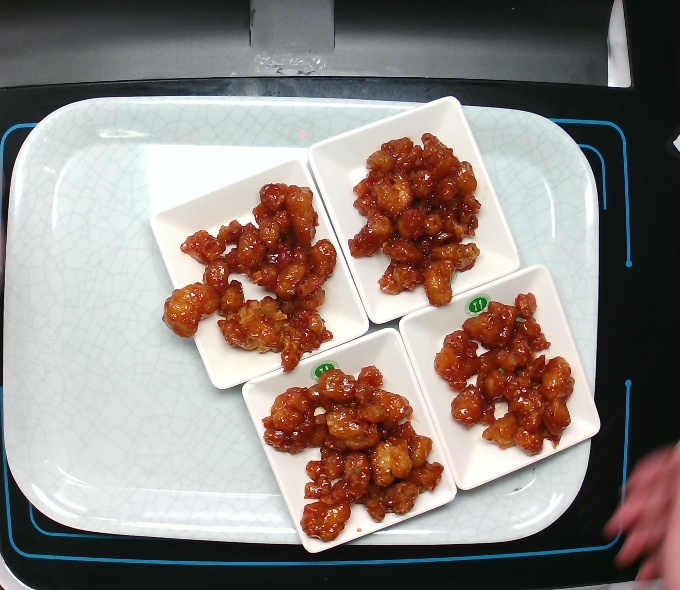wcq-TangCuPaiGu: (263, 364, 446, 541), (163, 186, 342, 362), (435, 287, 579, 458), (347, 130, 480, 307)
